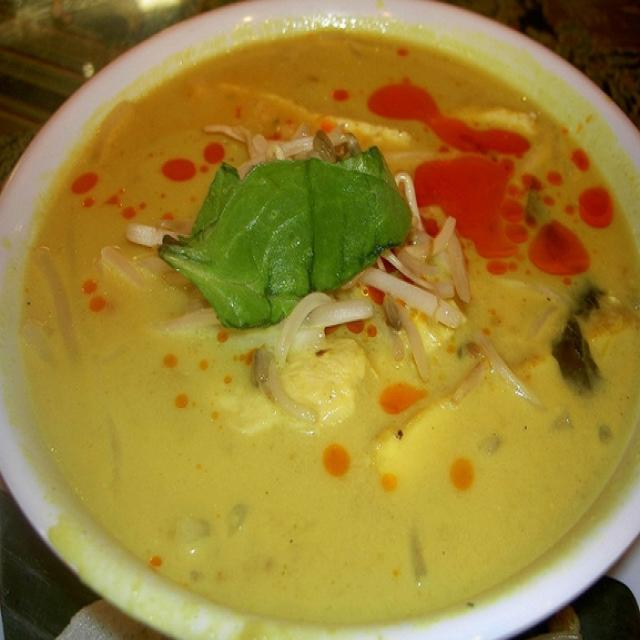面条主食: (10, 13, 633, 618)
